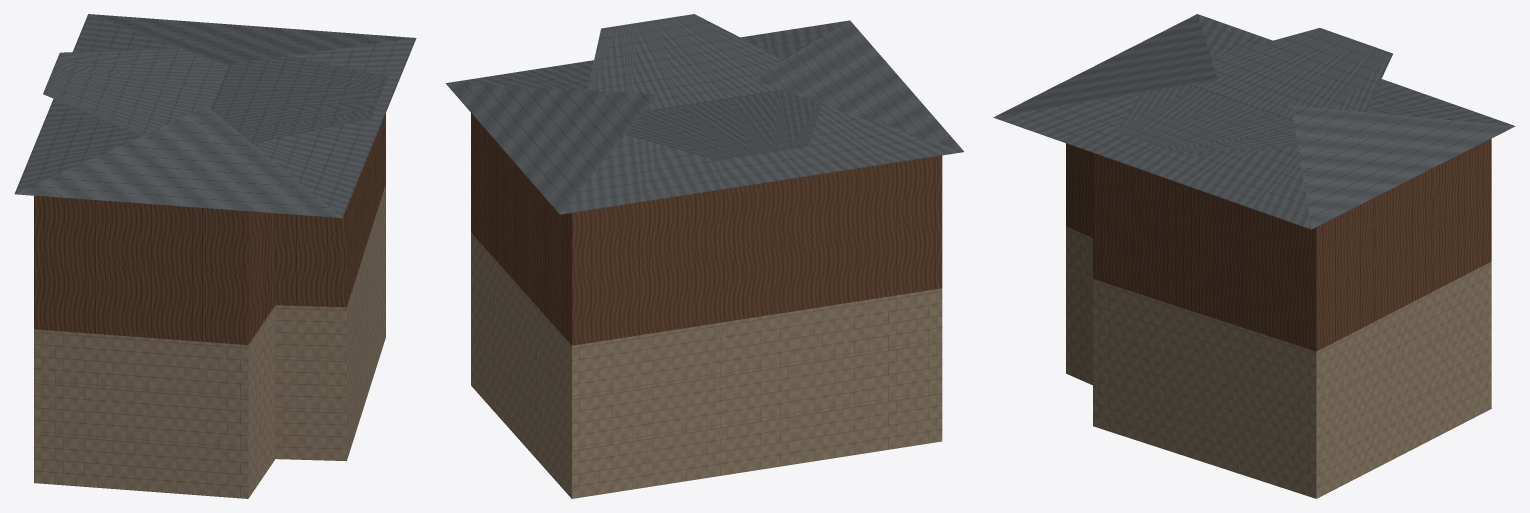
Rendered from bld_c-4_18_542.gltf.
3 views of the same model, side by side, from view 1: azimuth 30°, elevation 25°; view 2: azimuth 150°, elevation 25°; view 3: azimuth 270°, elevation 25° (orthographic). The views are drawn at different scales.
Visible parts, largest first — view 1: bld_c-4_18_542; view 2: bld_c-4_18_542; view 3: bld_c-4_18_542.
Part boxes in pixels (x1,y1,x2,y2): bld_c-4_18_542: (14,14,416,498); bld_c-4_18_542: (446,14,963,498); bld_c-4_18_542: (993,14,1515,498).
Bounding box in the file's own units: 15.73 × 10.6 × 16.11.
Materials: 3 (3 with a texture image).
